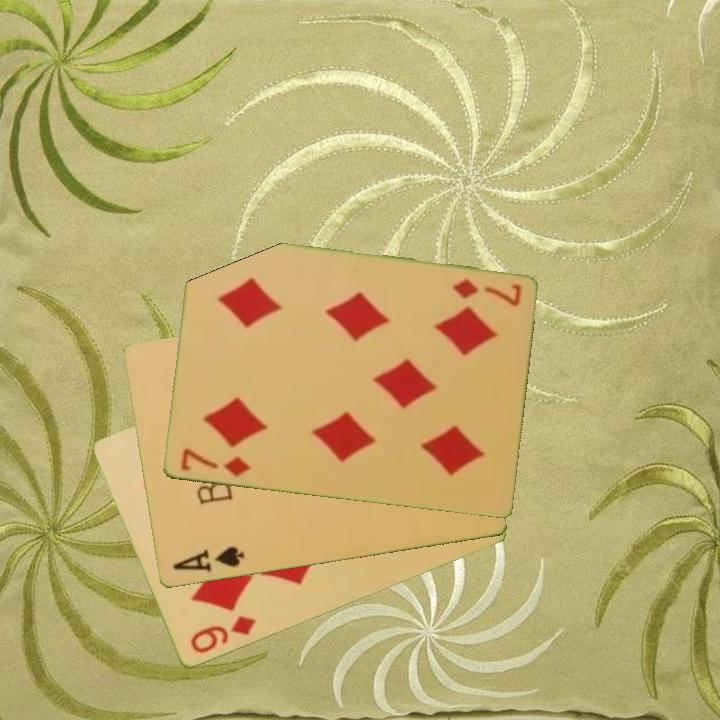7d: (176, 445, 252, 480), (449, 276, 524, 309)
9d: (186, 612, 259, 657)
As: (169, 543, 247, 576)
